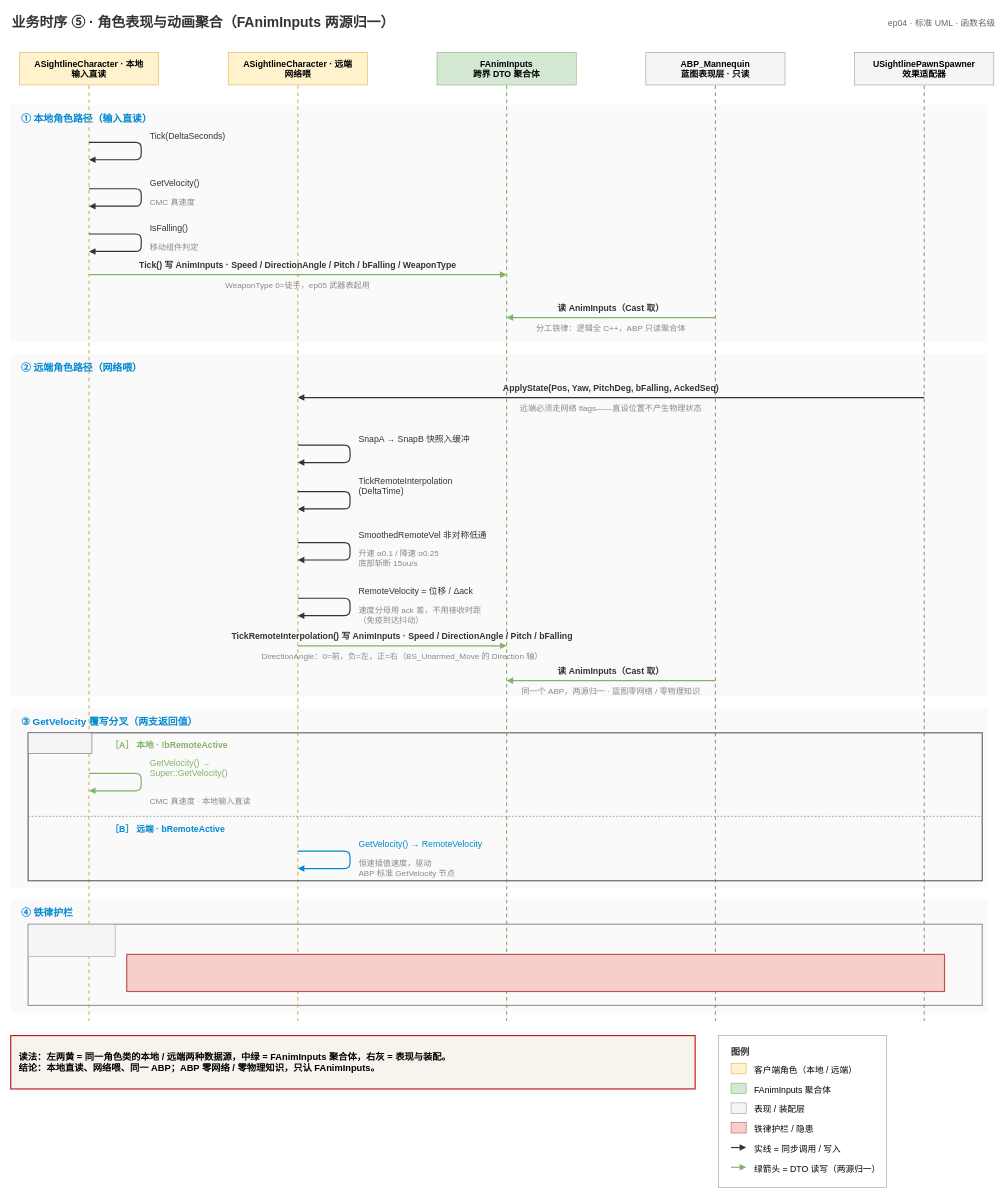
The diagram is 1006 pixels wide and 1198 high, and some of its shapes have lost their labels. The centre of each missing label's shape, as x and y in pixels:
ABP 不读 GetVelocity / IsFalling —— 由 C++ 替它采集聚合（本图论点）: point 535,973
alt: point 60,743
opt ［铁律护栏］: point 71,940
